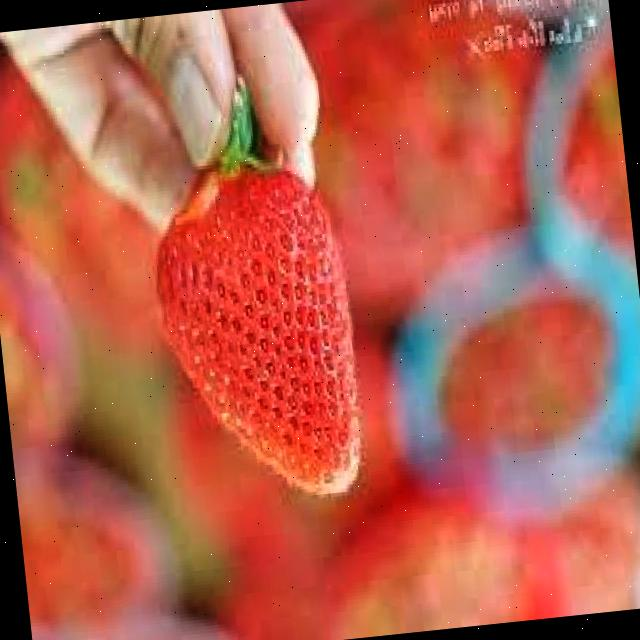strawberry: (142, 148, 369, 505)
